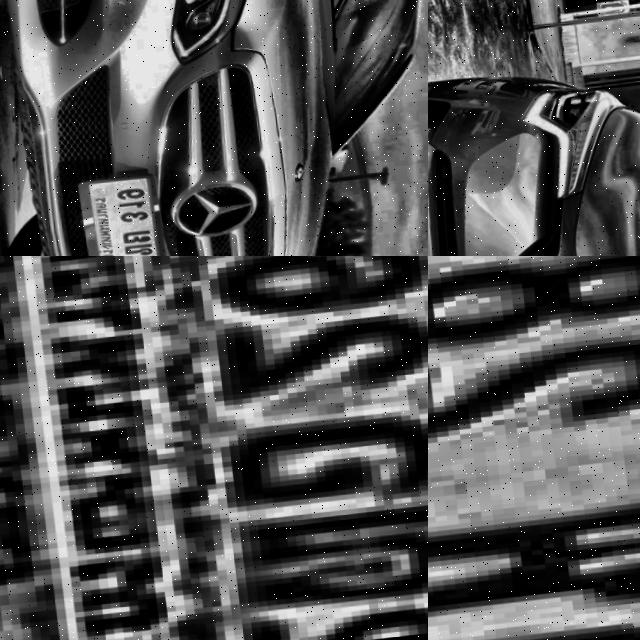license-plate: (0, 256, 428, 640), (428, 256, 640, 640), (62, 174, 167, 256)
